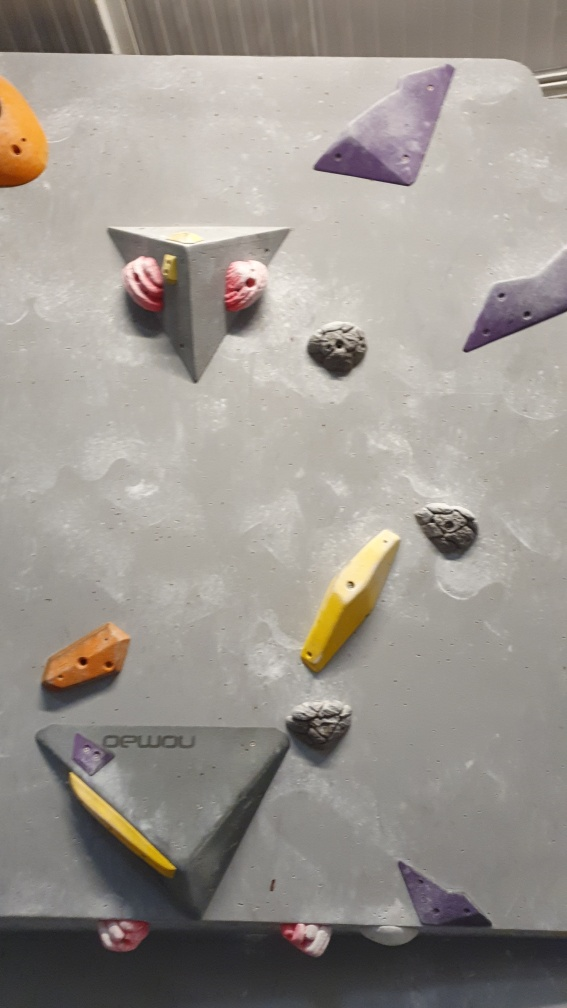Crimp: (67, 732, 117, 777)
Jug: (285, 697, 356, 753), (415, 501, 480, 562), (306, 318, 371, 378), (221, 254, 271, 315), (119, 253, 165, 318), (279, 921, 337, 962), (98, 921, 155, 955)
Pinch: (300, 529, 405, 681), (42, 622, 131, 696)
